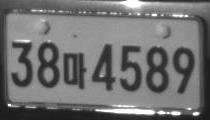3: (10, 39, 34, 88)
4: (90, 42, 116, 91)
5: (118, 44, 142, 92)
8: (145, 45, 170, 93), (37, 40, 61, 88)
9: (172, 46, 195, 94)
마: (62, 51, 87, 90)
